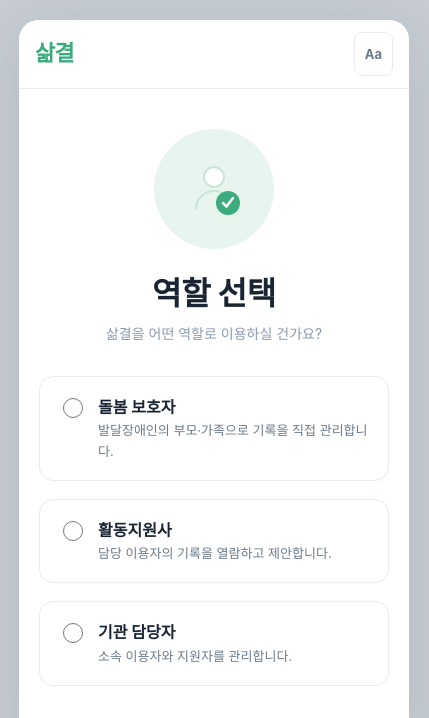
Test: 역할을 선택하면 다음 단계로 이동한다
Click the radio button labelled "돌봄 보호자 발달장애인의 부모·가족으로 기록을 직접 관리합니다.".
click(73, 408)  # box [63,398,83,418]
(page scrolled)
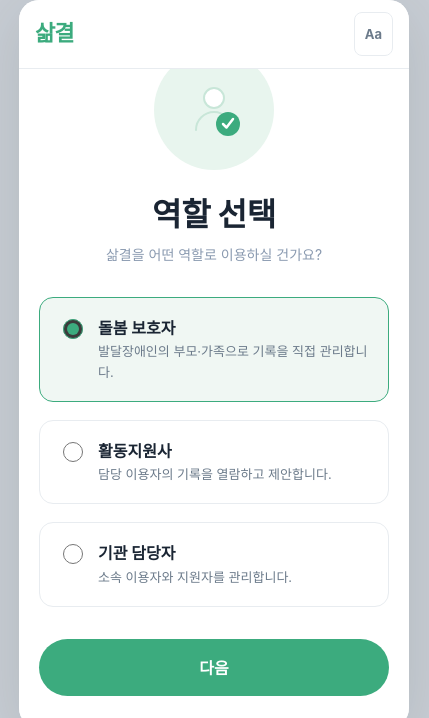
Click the button "다음".
click(214, 667)  # box [39,639,389,696]
(page scrolled)
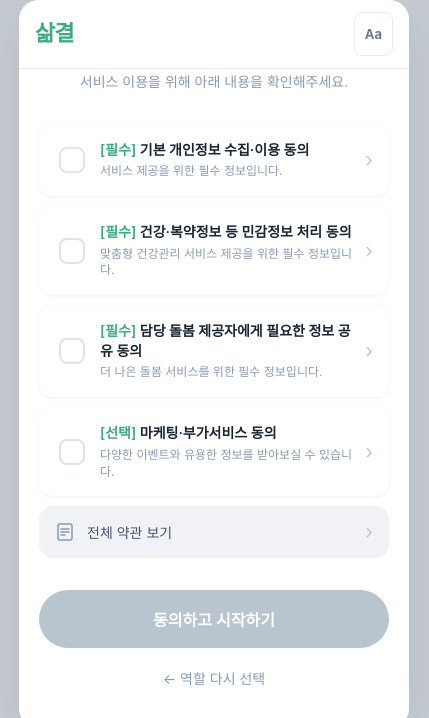
Result: the button "동의하고 시작하기" is shown at [39,590,389,648]
